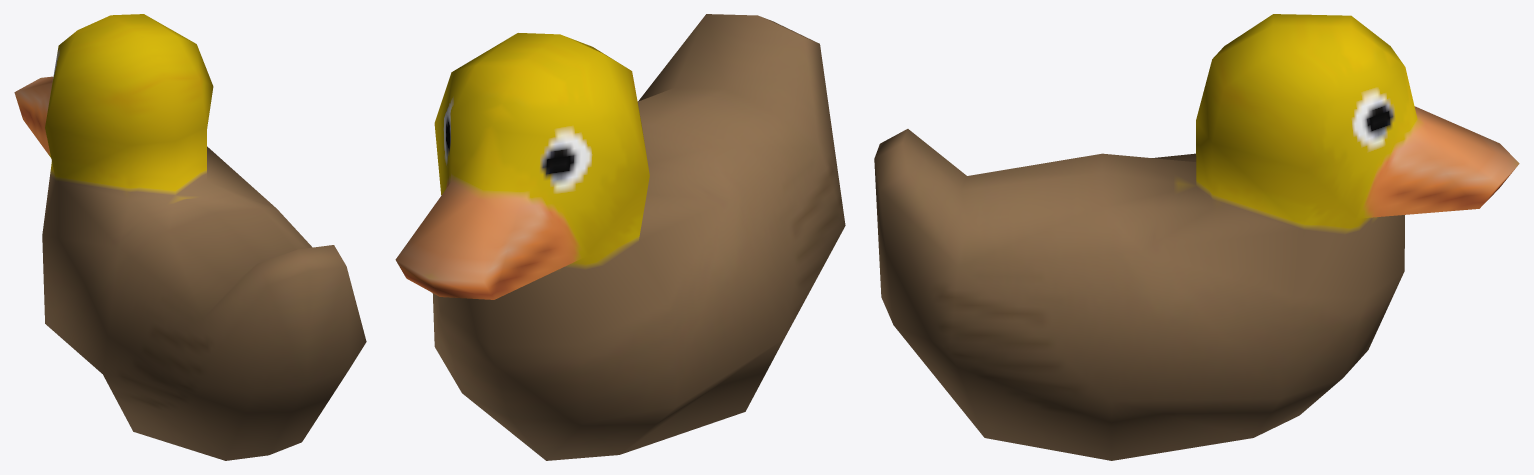
The model's file is duck_waterbottle.fbx.
The picture shows the model from 3 angles, left to right: view 1: azimuth 30°, elevation 25°; view 2: azimuth 150°, elevation 25°; view 3: azimuth 270°, elevation 25°; orthographic projection. The views are drawn at different scales.
Visible parts, largest first — view 1: waterbottle; view 2: waterbottle; view 3: waterbottle.
Part boxes in pixels (x1=…): waterbottle: x1=14, y1=14, x2=366, y2=460; waterbottle: x1=395, y1=14, x2=845, y2=460; waterbottle: x1=874, y1=14, x2=1519, y2=460.
Bounding box in the file's own units: 0.1099 × 0.1584 × 0.2373.
